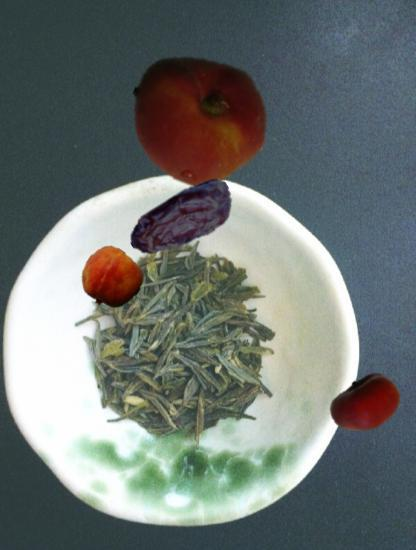Dates: (126, 164, 240, 278)
Nectarine: (127, 50, 269, 192), (330, 369, 402, 441)
Peach: (81, 249, 141, 309)
